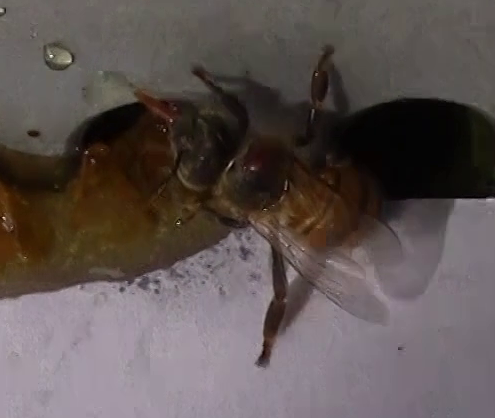Varroa destructor: (240, 143, 277, 176)
